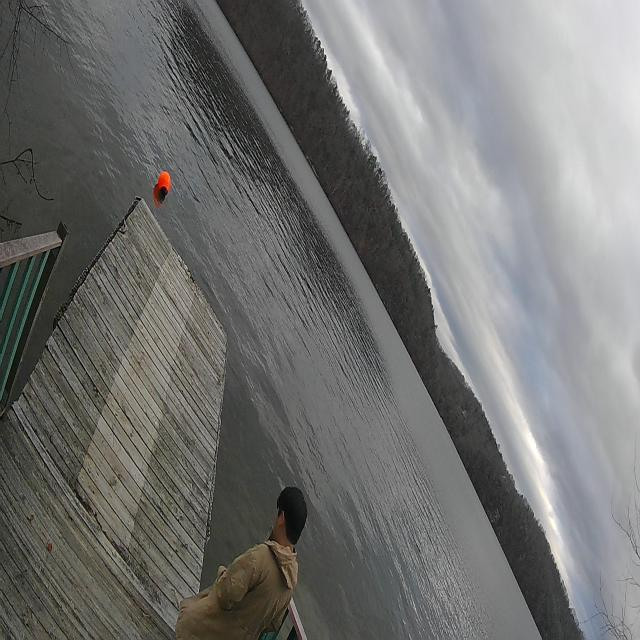Buoy: (155, 165, 173, 204)
